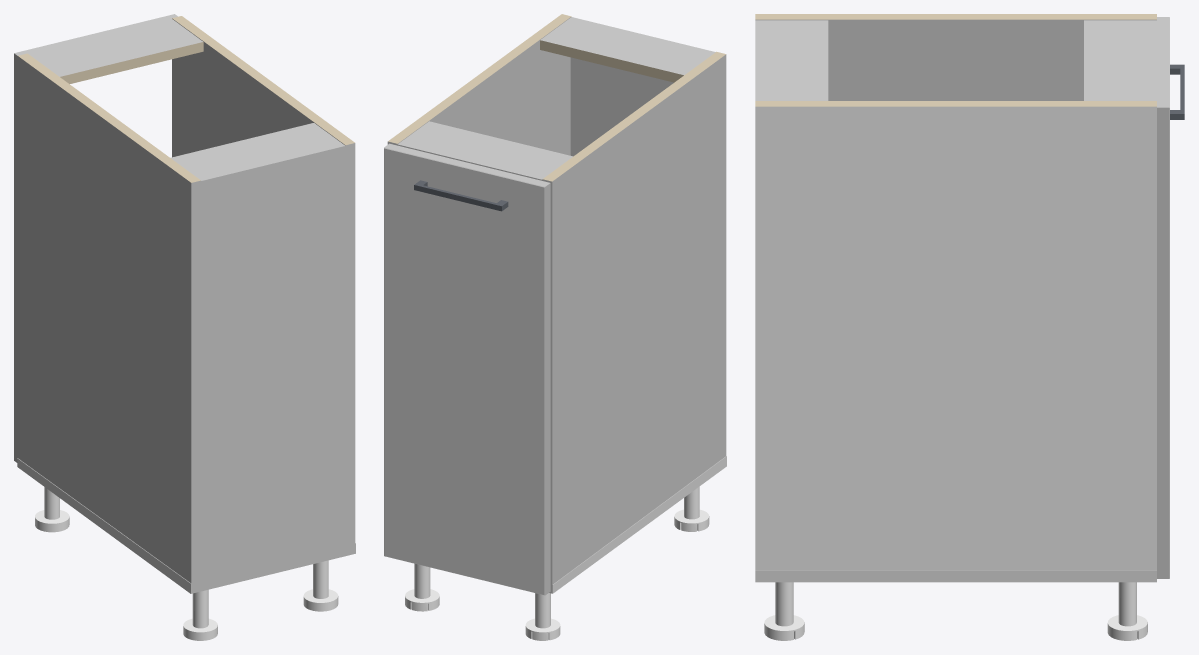
The picture shows the model from 3 angles, left to right: view 1: azimuth 30°, elevation 25°; view 2: azimuth 150°, elevation 25°; view 3: azimuth 270°, elevation 25°; orthographic projection. The views are drawn at different scales.
Visible parts, largest first — view 1: Model; view 2: Model; view 3: Model.
Boxes of the visible parts, bbox=[...] form: Model: bbox=[14, 14, 355, 640]; Model: bbox=[384, 14, 726, 640]; Model: bbox=[755, 14, 1184, 640].
Size of the model in its own units: 302 by 813 by 588.
